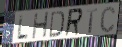C: (99, 5, 117, 34)
D: (49, 10, 65, 38)
H: (32, 11, 50, 40)
L: (16, 14, 29, 40)
R: (63, 7, 84, 38)
T: (86, 7, 98, 34)
